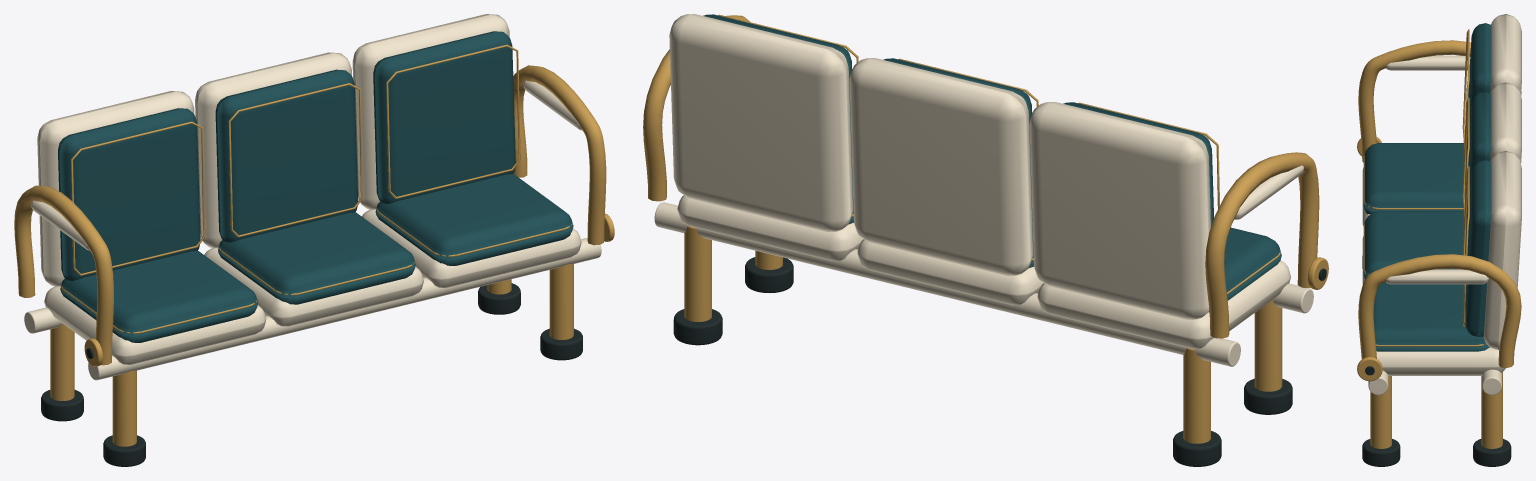
Rendered from bench.glb.
3 renders of one model, left to right at view 1: azimuth 30°, elevation 25°; view 2: azimuth 150°, elevation 25°; view 3: azimuth 270°, elevation 25°, orthographic. The views are drawn at different scales.
Visible parts, largest first — view 1: cushion, ivory, brass, rubber; view 2: ivory, brass, cushion, rubber; view 3: cushion, ivory, brass, rubber.
Part boxes in pixels (bbox=[...]): cushion: bbox=[58, 31, 573, 342]; ivory: bbox=[24, 14, 601, 380]; brass: bbox=[14, 44, 614, 446]; rubber: bbox=[41, 283, 582, 466]; ivory: bbox=[654, 14, 1313, 366]; brass: bbox=[643, 14, 1328, 443]; cushion: bbox=[703, 14, 1281, 311]; rubber: bbox=[673, 257, 1292, 466]; cushion: bbox=[1363, 23, 1491, 351]; ivory: bbox=[1362, 14, 1521, 395]; brass: bbox=[1357, 29, 1521, 448]; rubber: bbox=[1362, 256, 1511, 466].
Bounding box in the file's own units: 1.89 × 0.9896 × 0.5796.
